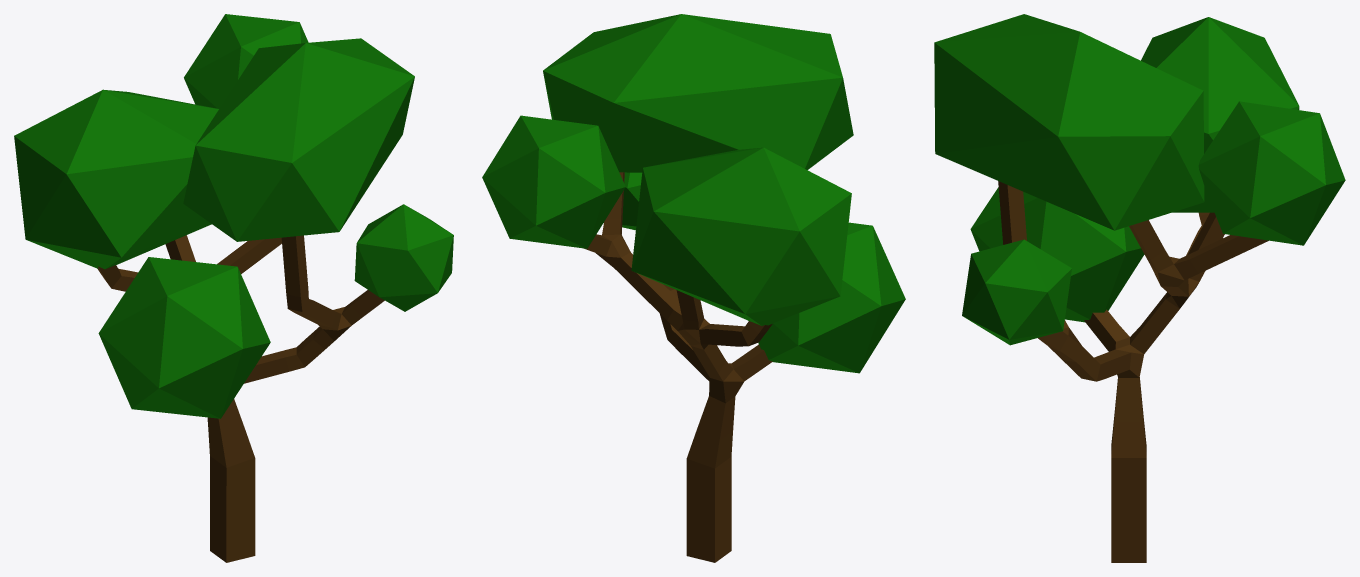
File: Arbol 1.glb
3 renders of one model, left to right at view 1: azimuth 30°, elevation 25°; view 2: azimuth 150°, elevation 25°; view 3: azimuth 270°, elevation 25°, orthographic. The views are drawn at different scales.
Parts seen in each view (by area): view 1: Plane; view 2: Plane; view 3: Plane.
Part boxes in pixels (bbox=[...]): Plane: bbox=[14, 14, 453, 562]; Plane: bbox=[482, 14, 905, 562]; Plane: bbox=[934, 14, 1345, 562].
Bounding box in the file's own units: 2.81 × 4.15 × 2.81.
